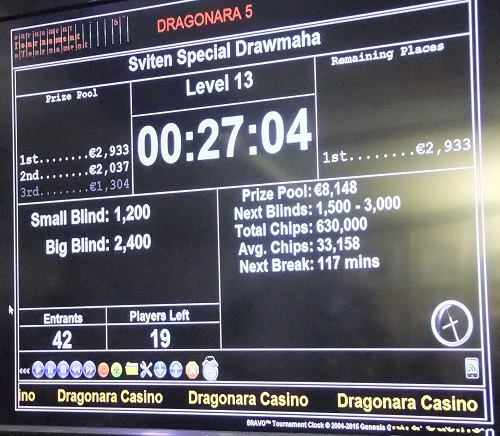PlayersLeft: (102, 302, 223, 351)
Remaining: (16, 80, 135, 207)
